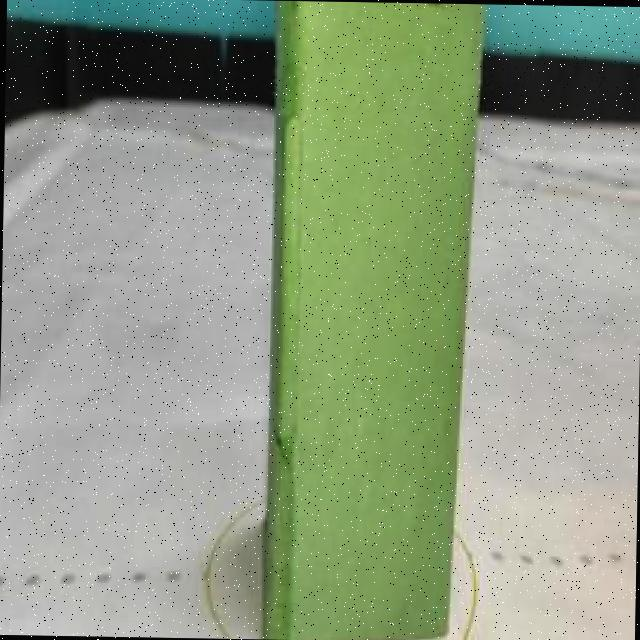greenbox: (257, 0, 482, 640)
